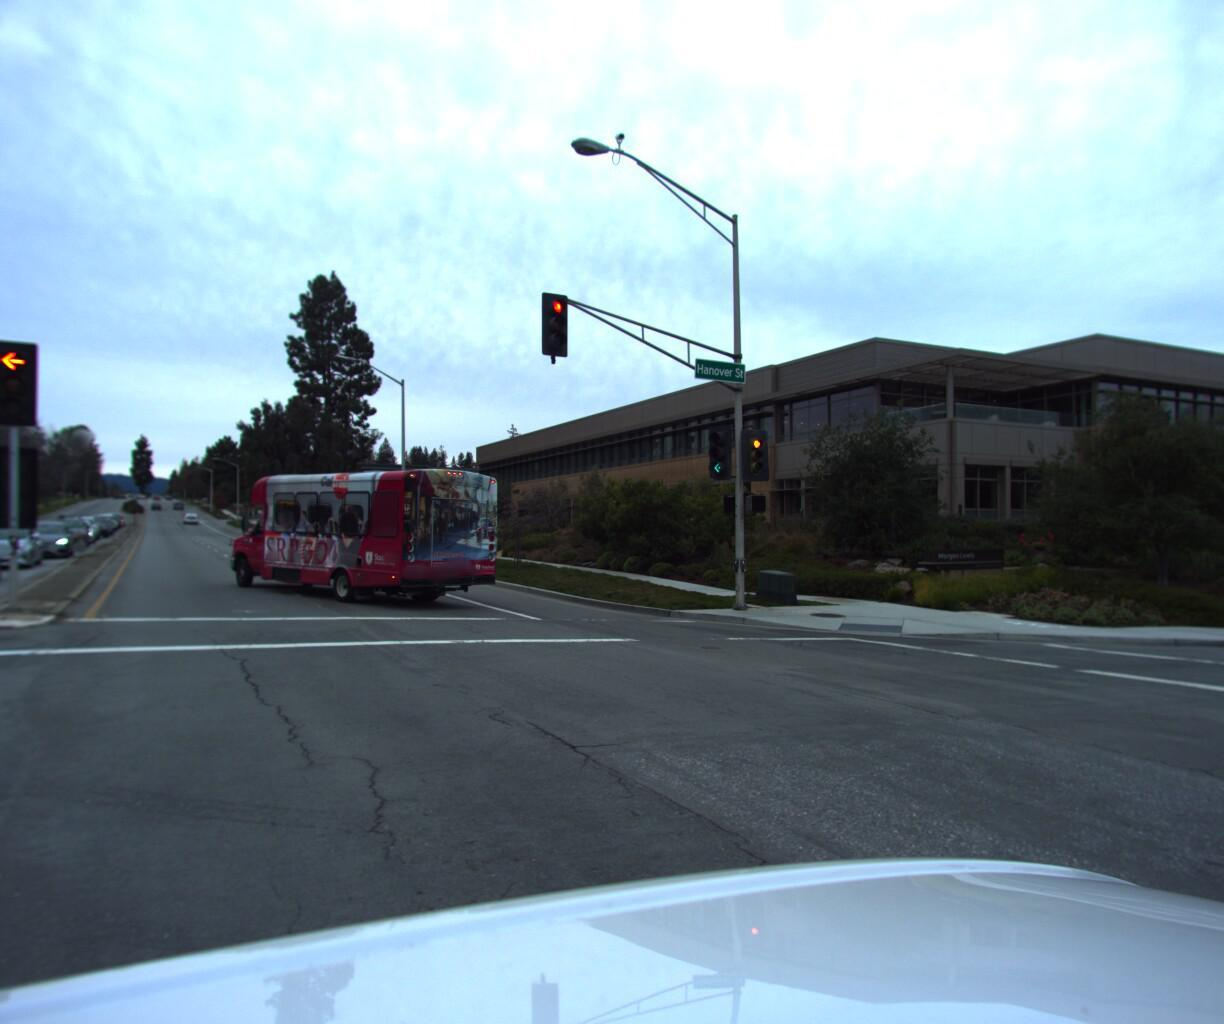bus: (204, 443, 513, 613)
car: (0, 520, 56, 571), (18, 523, 84, 562), (47, 513, 99, 548), (60, 518, 105, 544), (70, 514, 107, 543), (0, 522, 13, 594)
